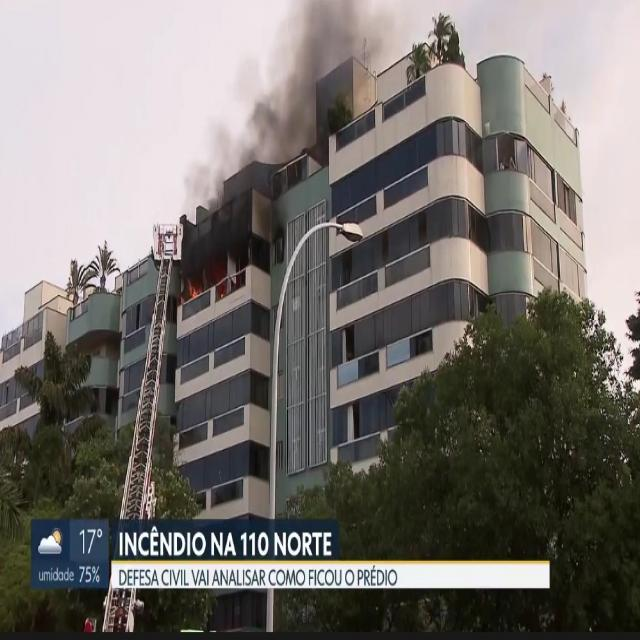Fire: (180, 277, 200, 302)
